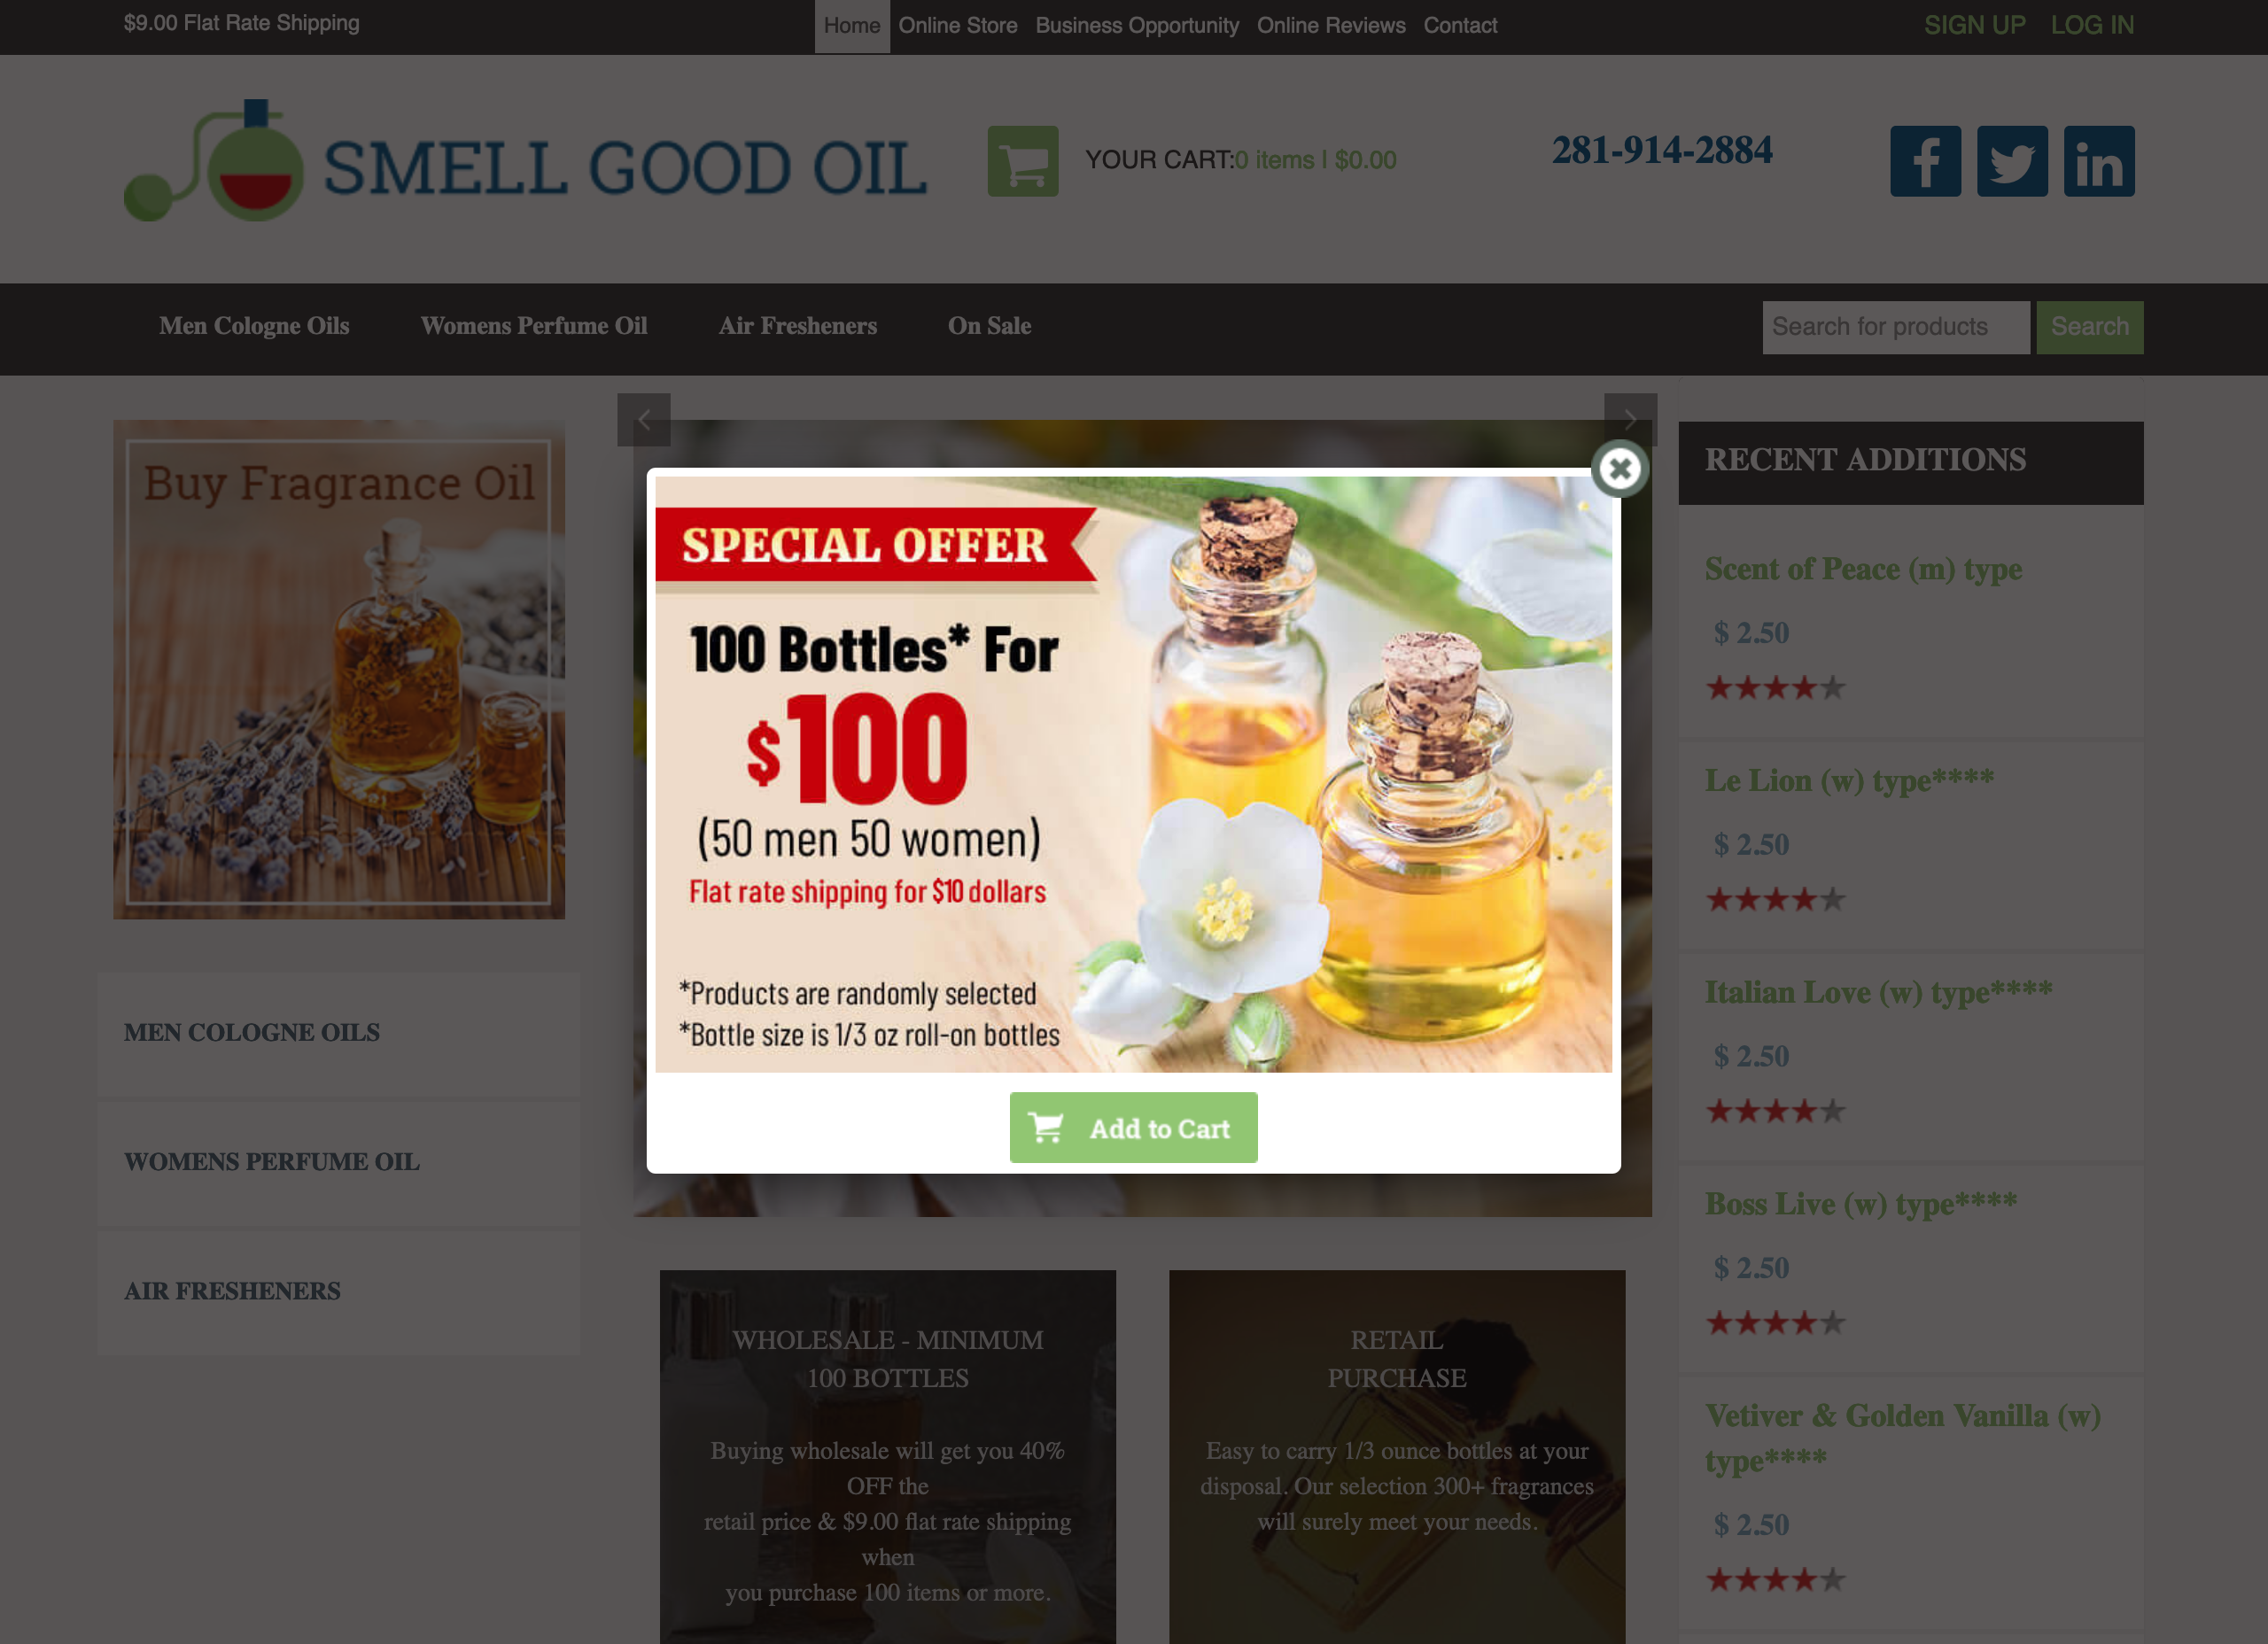Login: (2046, 9, 2145, 44)
